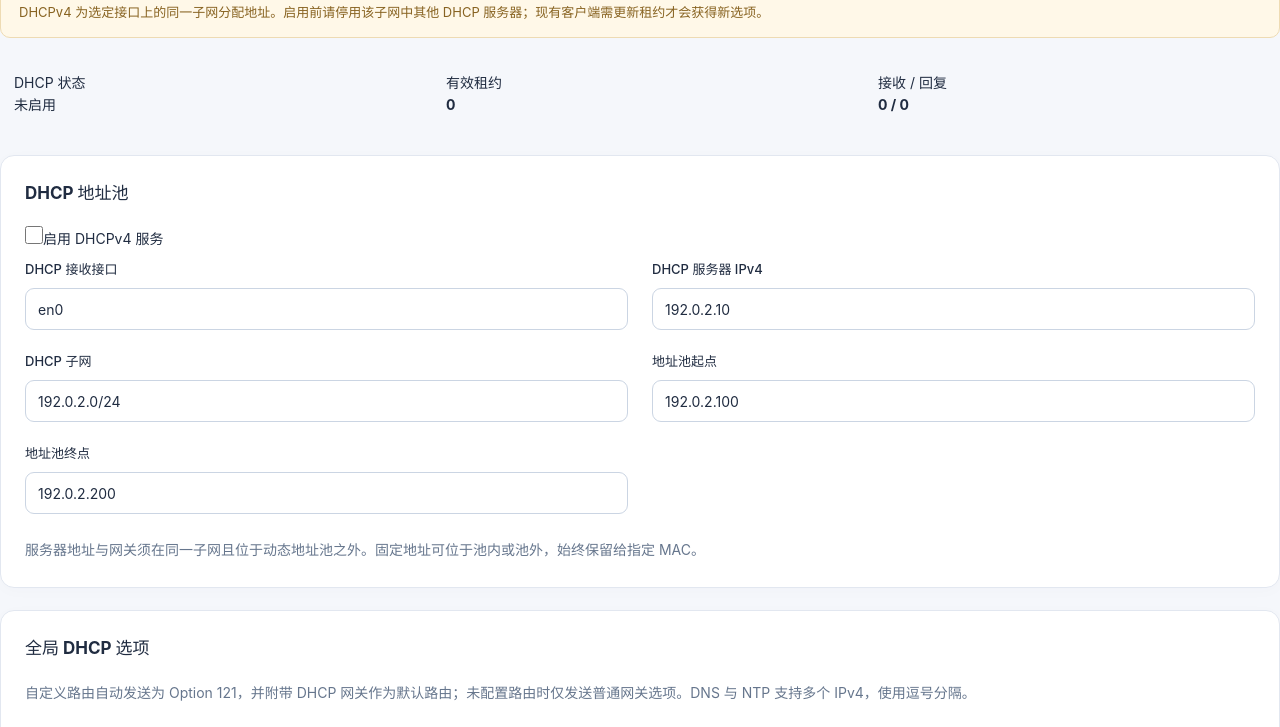
Test: checks before enabling, shows conflicts and allows cancellation without saving
Click the checkbox labelled "启用 DHCPv4 服务": click(34, 235) [25,226,43,244]
(page scrolled)
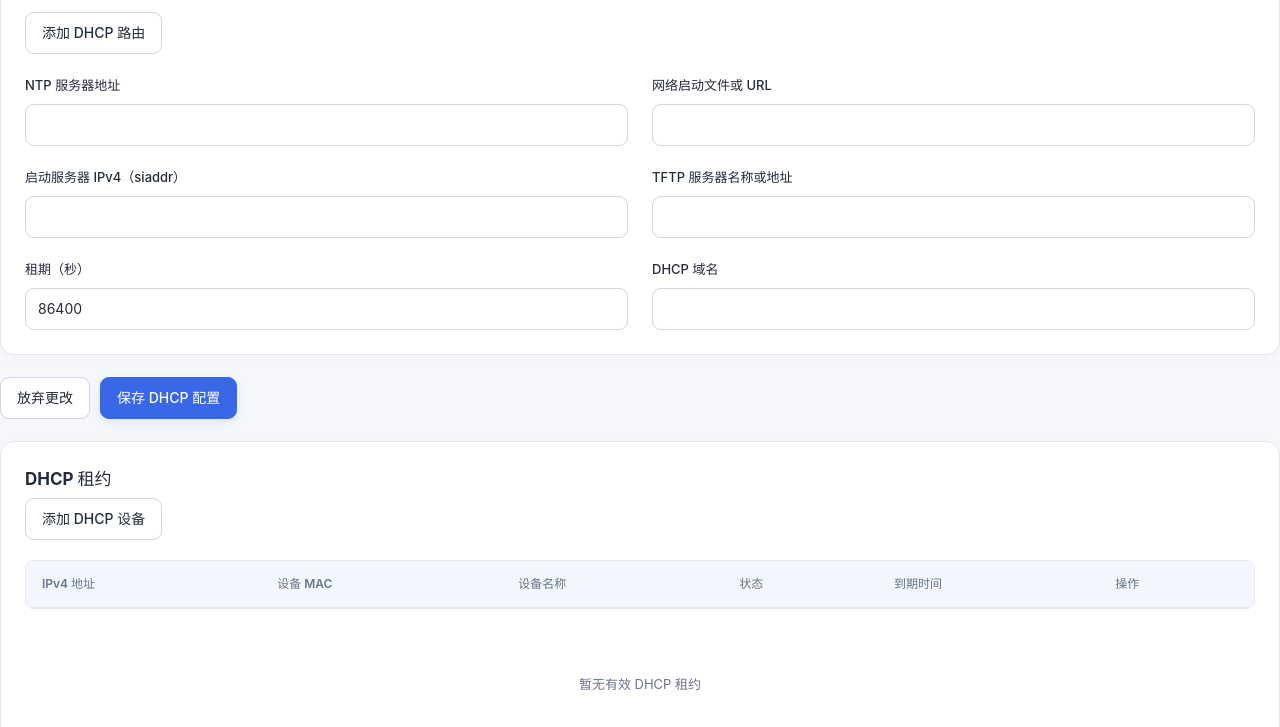
Click the button "保存 DHCP 配置": click(169, 398) [100,377,237,419]
(page scrolled)
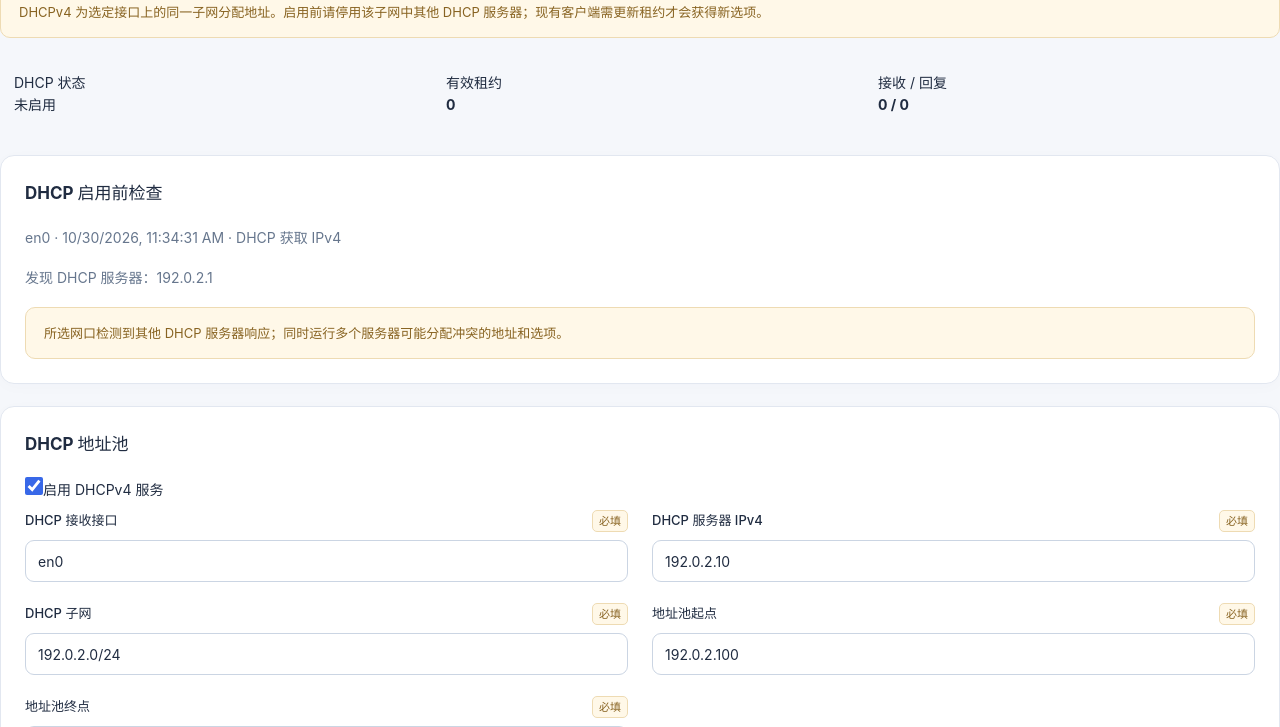
Check: the text "发现 DHCP 服务器：192.0.2.1" is shown, box [25,269,213,286]
